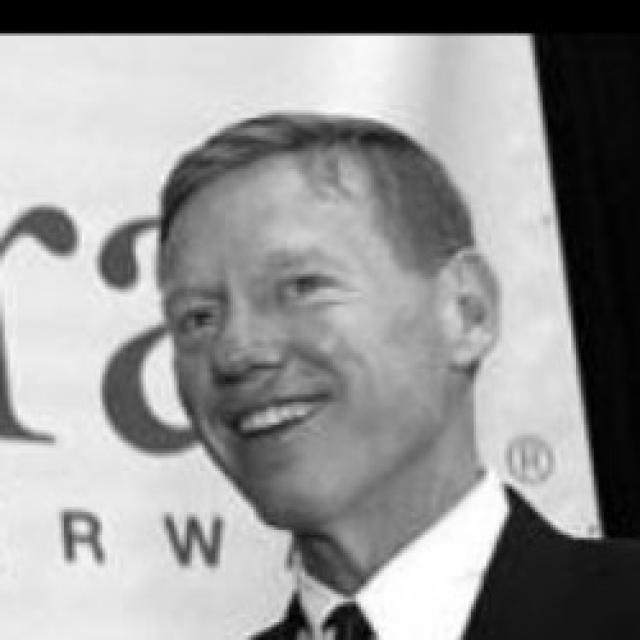real: (162, 177, 450, 528), (169, 267, 357, 345)
